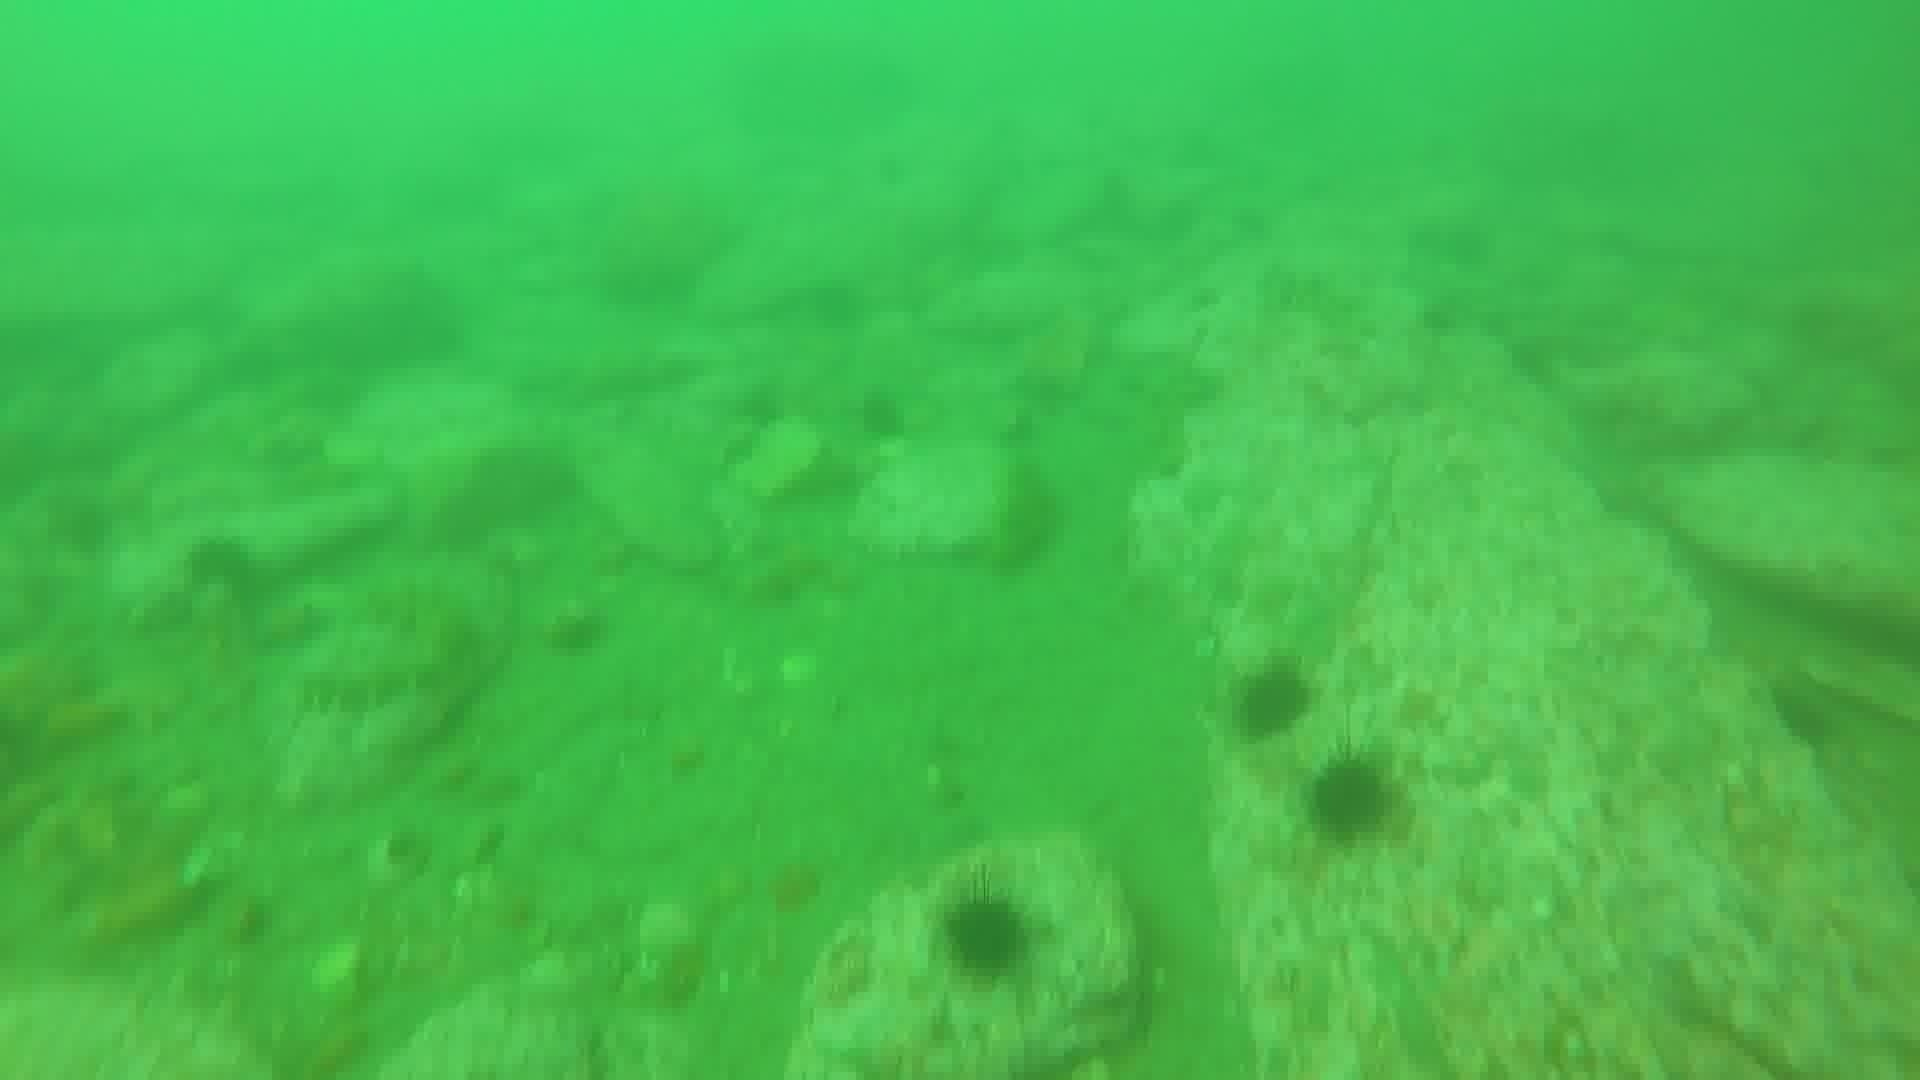echinus: (1302, 752, 1400, 847), (936, 887, 1034, 982), (1228, 659, 1317, 744), (179, 531, 262, 604), (851, 385, 913, 446), (855, 136, 911, 196), (1418, 294, 1474, 353), (1083, 162, 1139, 222), (1449, 210, 1505, 270), (1225, 186, 1280, 247), (807, 266, 862, 327), (1151, 191, 1207, 251)
holothurian: (286, 609, 462, 721)
